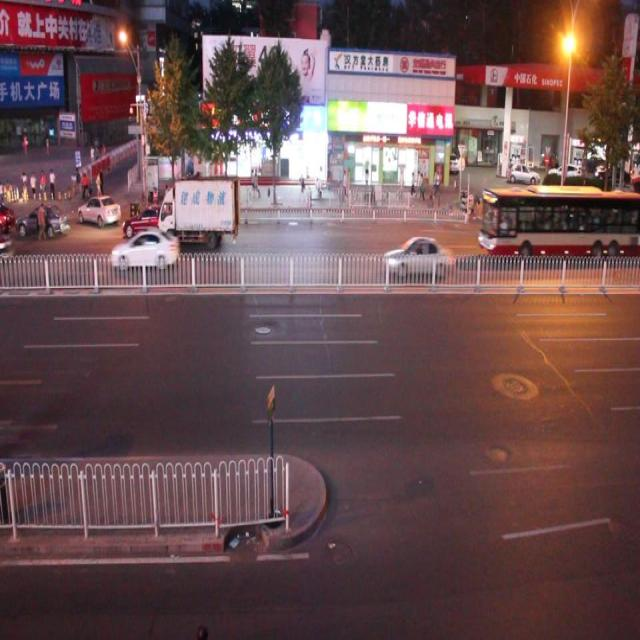bus: (153, 184, 240, 259)
car: (107, 228, 180, 272), (382, 234, 453, 278), (120, 210, 182, 251), (14, 201, 71, 239), (77, 191, 122, 227)
van: (478, 185, 640, 262)
